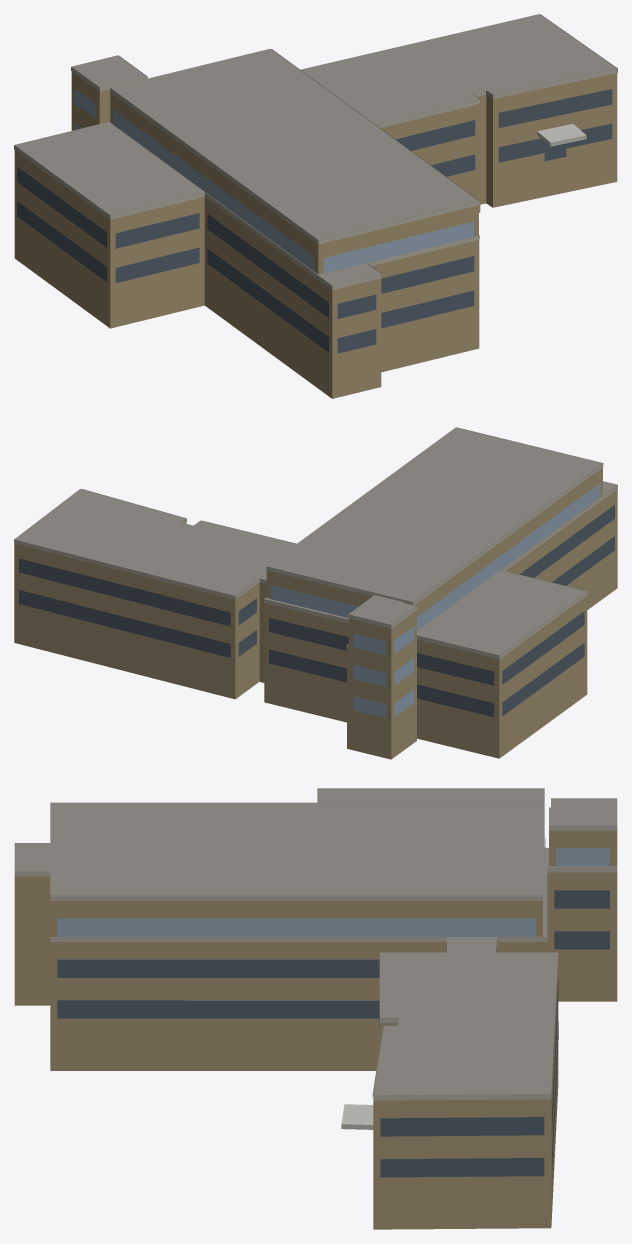
File: association-of-arkansas-counties.glb
3 renders of one model, top to bottom at view 1: azimuth 30°, elevation 25°; view 2: azimuth 150°, elevation 25°; view 3: azimuth 270°, elevation 25°, orthographic. The views are drawn at different scales.
Parts seen in each view (by area): view 1: association_of_arkansas_counties; view 2: association_of_arkansas_counties; view 3: association_of_arkansas_counties.
Boxes of the visible parts, left/top/right/bottom form: association_of_arkansas_counties: left=14, top=14, right=617, bottom=398; association_of_arkansas_counties: left=14, top=427, right=617, bottom=759; association_of_arkansas_counties: left=14, top=788, right=617, bottom=1229.
Size of the model in its own units: 61.3 by 16.26 by 50.88.
